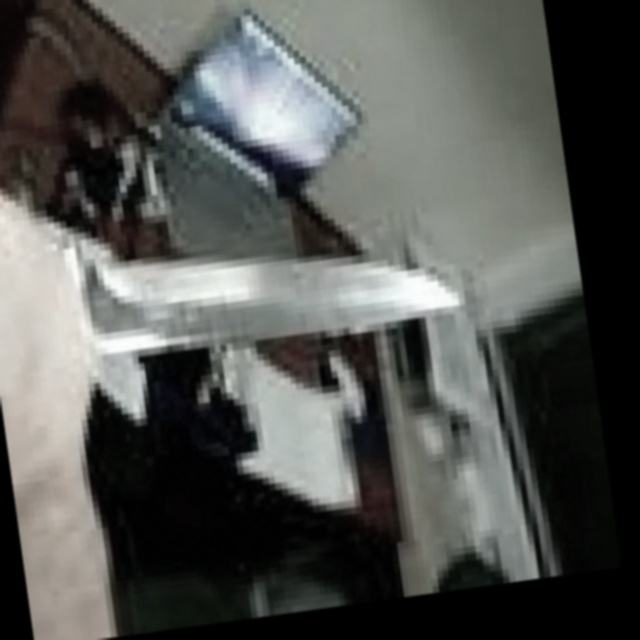Sharp-Object: (60, 190, 460, 370)
